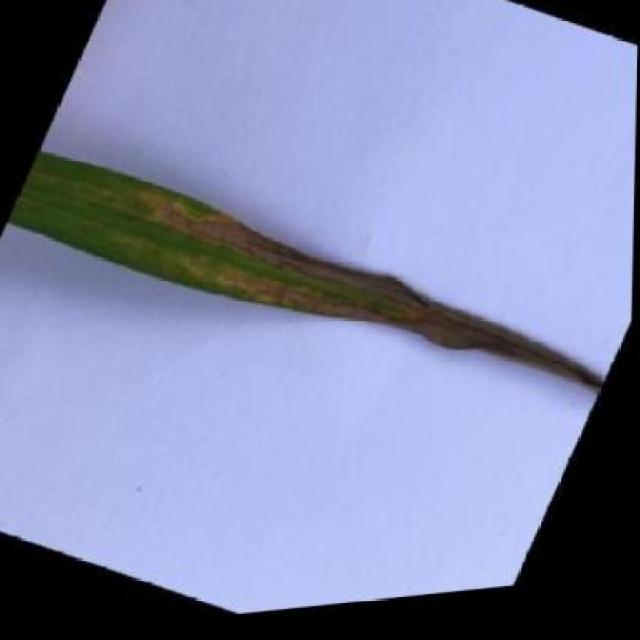Rice False Smut: (0, 97, 628, 494)
